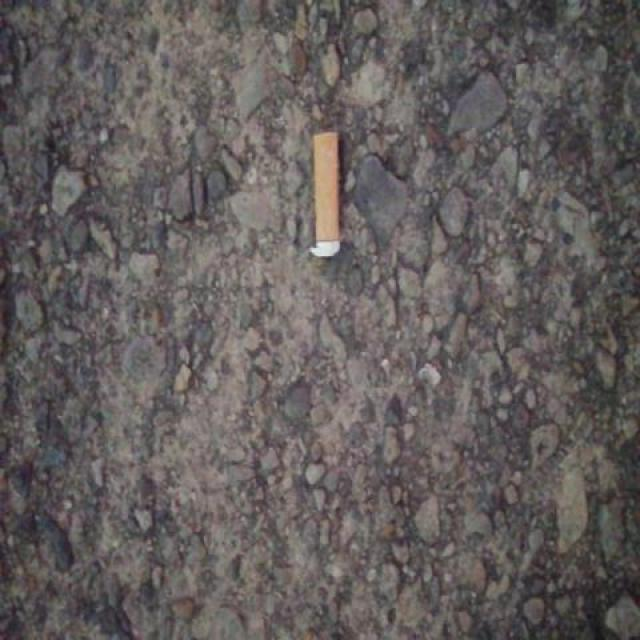non-organic waste: (306, 126, 343, 263)
